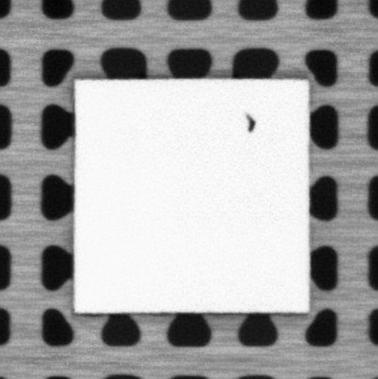DIE_INK: (244, 111, 257, 134)
